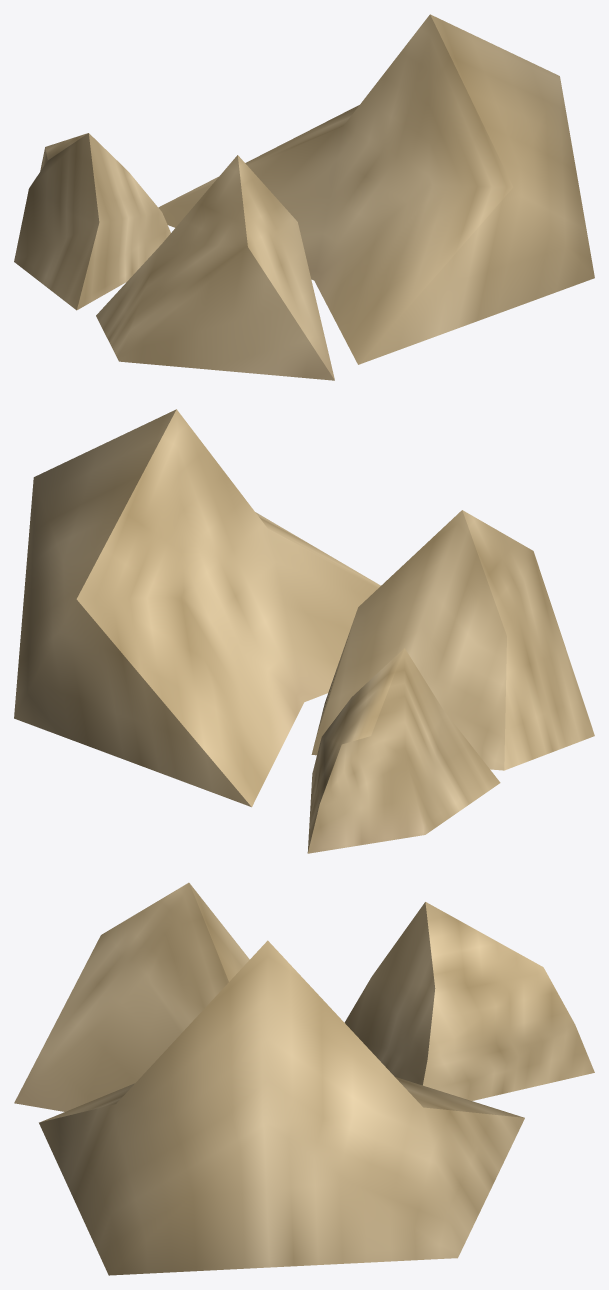
The model's file is wrld_rock_8.glb.
3 views of the same model, one above another, from view 1: azimuth 30°, elevation 25°; view 2: azimuth 150°, elevation 25°; view 3: azimuth 270°, elevation 25° (orthographic). The views are drawn at different scales.
Parts seen in each view (by area): view 1: wrld_rock_8; view 2: wrld_rock_8; view 3: wrld_rock_8.
Boxes of the visible parts, x1,y1,x2,y2 form: wrld_rock_8: (14, 14, 594, 380); wrld_rock_8: (14, 409, 594, 853); wrld_rock_8: (14, 882, 594, 1275).
Bounding box in the file's own units: 2.82 × 1.35 × 2.54.
Materials: 1 (1 with a texture image).
